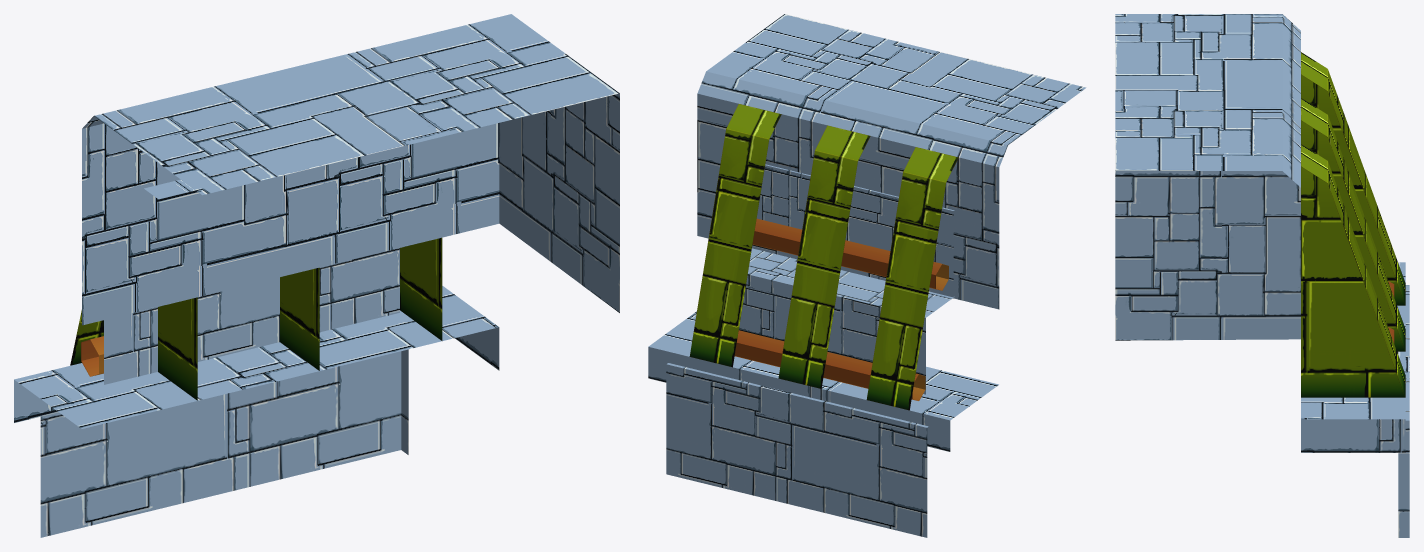
The model's file is JC_ModPanels_EdgeTile_II.fbx.
3 renders of one model, left to right at view 1: azimuth 30°, elevation 25°; view 2: azimuth 150°, elevation 25°; view 3: azimuth 270°, elevation 25°, orthographic. The views are drawn at different scales.
Parts seen in each view (by area): view 1: JC_ModPanels_EdgeTile_II; view 2: JC_ModPanels_EdgeTile_II; view 3: JC_ModPanels_EdgeTile_II.
Part boxes in pixels (box(x1,y1,x2,y2)): JC_ModPanels_EdgeTile_II: box(14, 14, 619, 537); JC_ModPanels_EdgeTile_II: box(648, 14, 1086, 537); JC_ModPanels_EdgeTile_II: box(1115, 14, 1409, 537).
Bounding box in the file's own units: 200 × 224 × 159.
